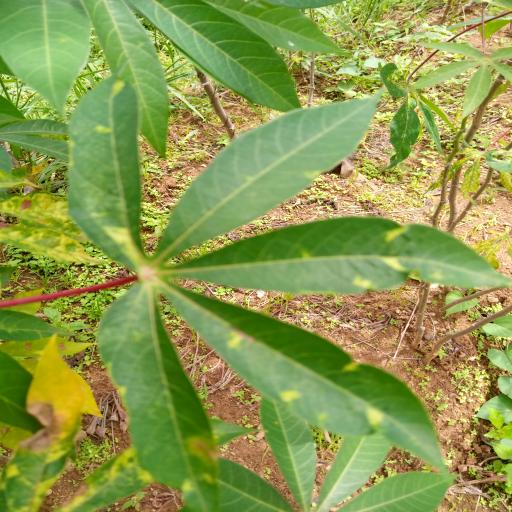Cassava_Mosaic: (64, 68, 512, 512)
